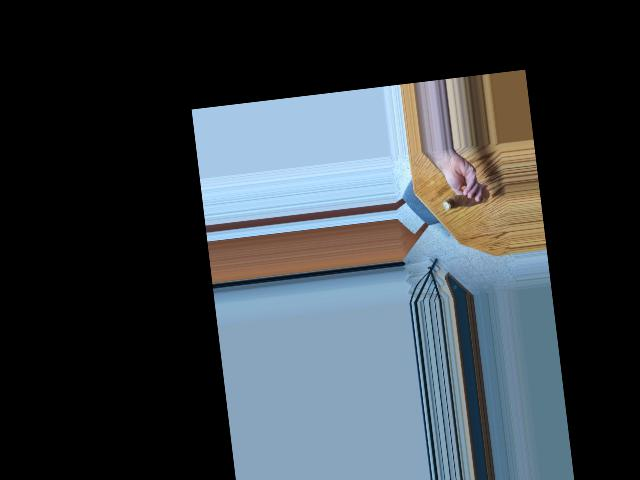sweet_potato: (440, 185, 490, 212)
